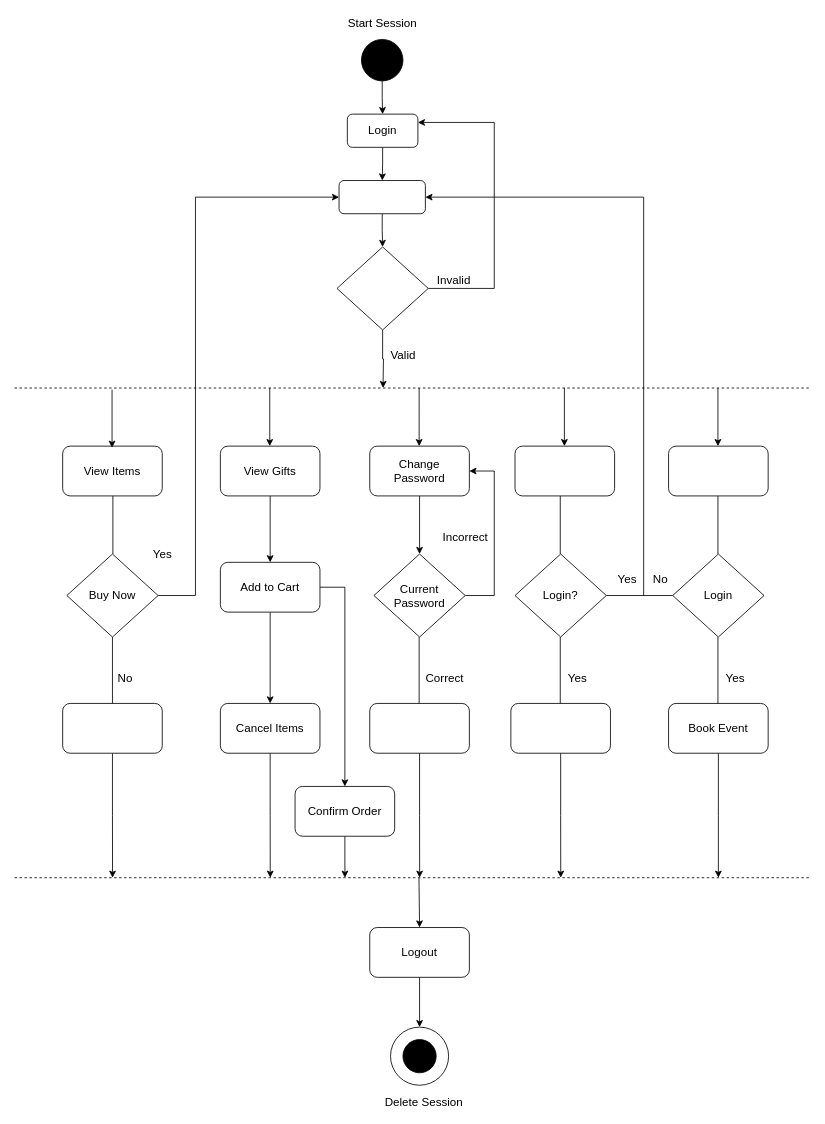
Image size: 825x1124. Some labels were removed from this diagram. Here are the shapes that lost their labels. From the top down, the box of each, then its label:
(338, 180, 425, 214): Authenticate
(336, 246, 428, 330): Check Credentials
(514, 445, 615, 496): Send Greeting
(668, 445, 768, 496): Plan Event
(62, 703, 162, 753): Home Page
(369, 703, 469, 753): Update Password
(510, 703, 610, 753): Send Email
